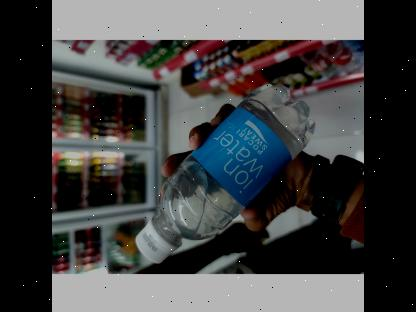Plastic Bottle: (122, 73, 328, 279)
